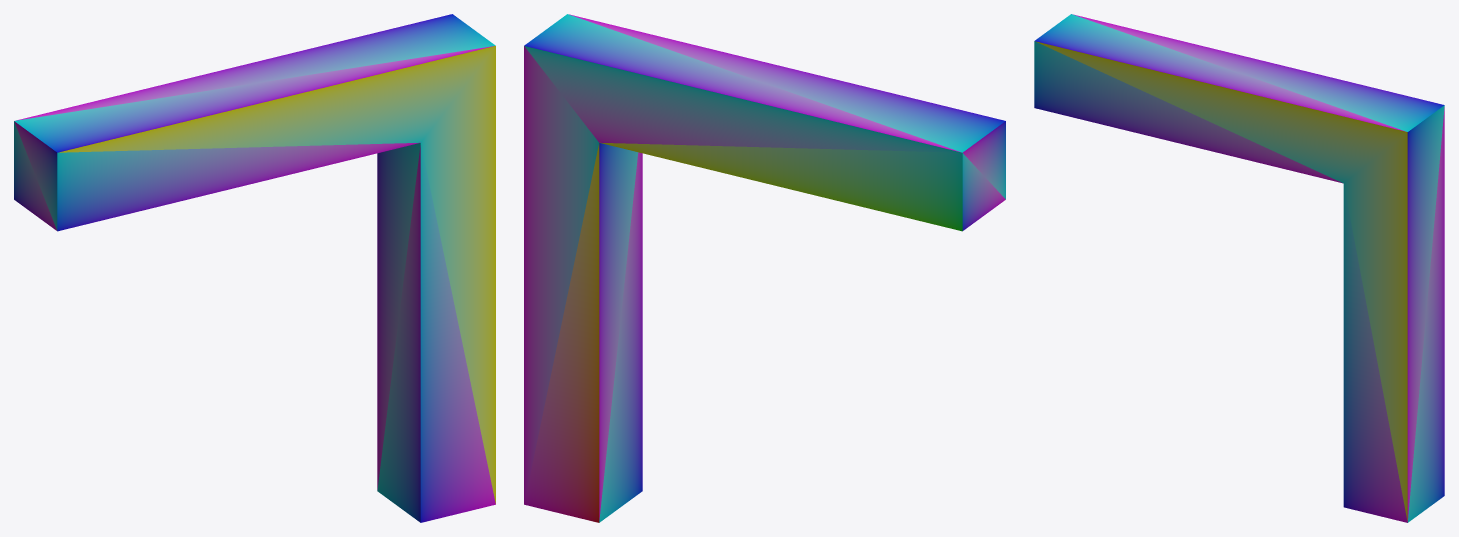
File: MRTK_BoundingBox_ScaleWidget_Slate.fbx
The picture shows the model from 3 angles, left to right: view 1: azimuth 30°, elevation 25°; view 2: azimuth 150°, elevation 25°; view 3: azimuth 330°, elevation 25°; orthographic projection. The views are drawn at different scales.
Parts seen in each view (by area): view 1: unnamed; view 2: unnamed; view 3: unnamed.
Part boxes in pixels (bbox=[...]): unnamed: bbox=[14, 14, 495, 522]; unnamed: bbox=[524, 14, 1005, 522]; unnamed: bbox=[1034, 14, 1444, 522].
Size of the model in its own units: 0.0175 by 0.0175 by 0.003.
